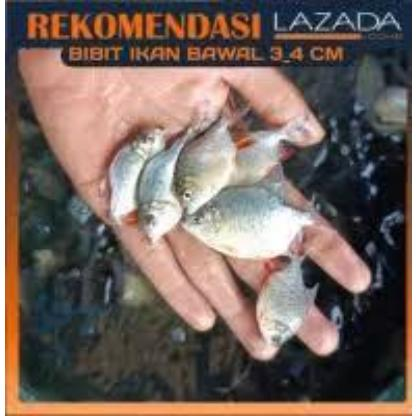ikan-pacu: (188, 186, 330, 256), (250, 256, 318, 342), (172, 121, 230, 215)
